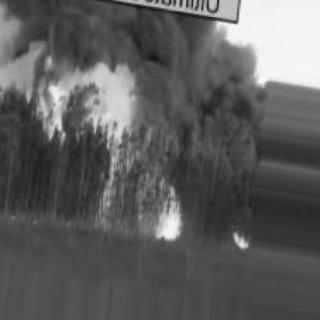Fire: (82, 79, 140, 225), (149, 176, 189, 252), (38, 75, 74, 147), (226, 224, 257, 254)
Smoke: (13, 1, 255, 73)
